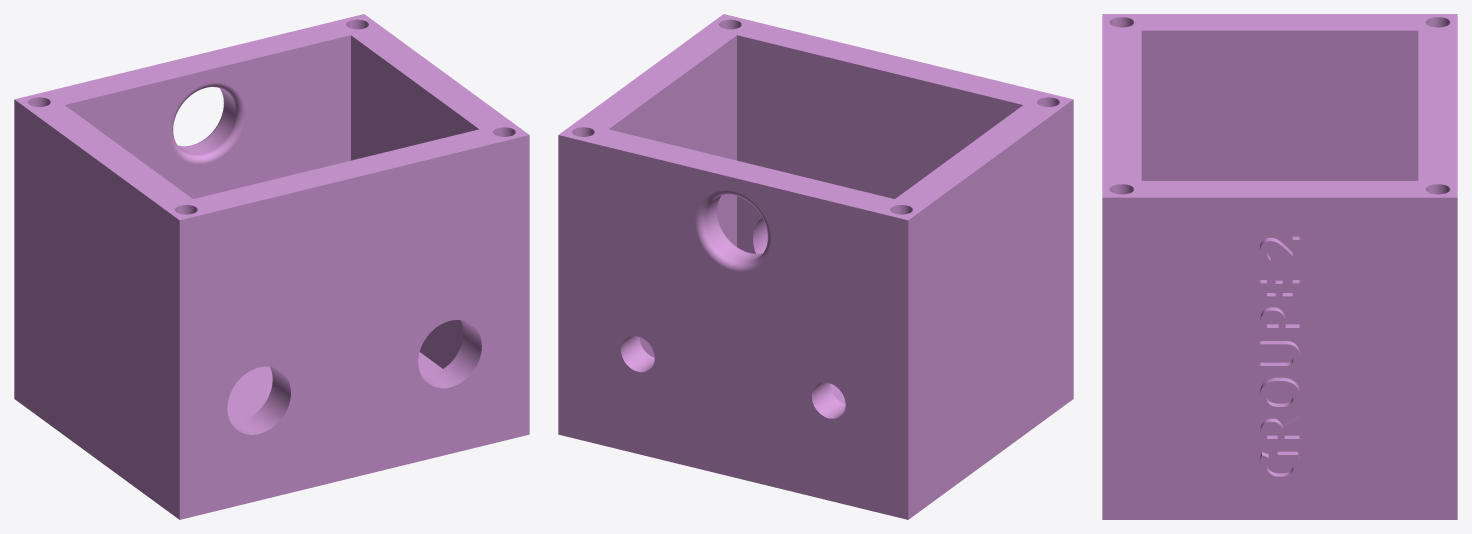
Rendered from BOUTON D ARRET URGENCE - BOITE BAU.gltf.
The picture shows the model from 3 angles, left to right: view 1: azimuth 30°, elevation 25°; view 2: azimuth 150°, elevation 25°; view 3: azimuth 270°, elevation 25°; orthographic projection. The views are drawn at different scales.
Visible parts, largest first — view 1: BOITE BAU; view 2: BOITE BAU; view 3: BOITE BAU.
Part boxes in pixels (x1,y1,x2,y2): BOITE BAU: [14, 14, 529, 519]; BOITE BAU: [558, 14, 1073, 519]; BOITE BAU: [1102, 14, 1457, 519].
Size of the model in its own units: 0.056 by 0.045 by 0.045.
